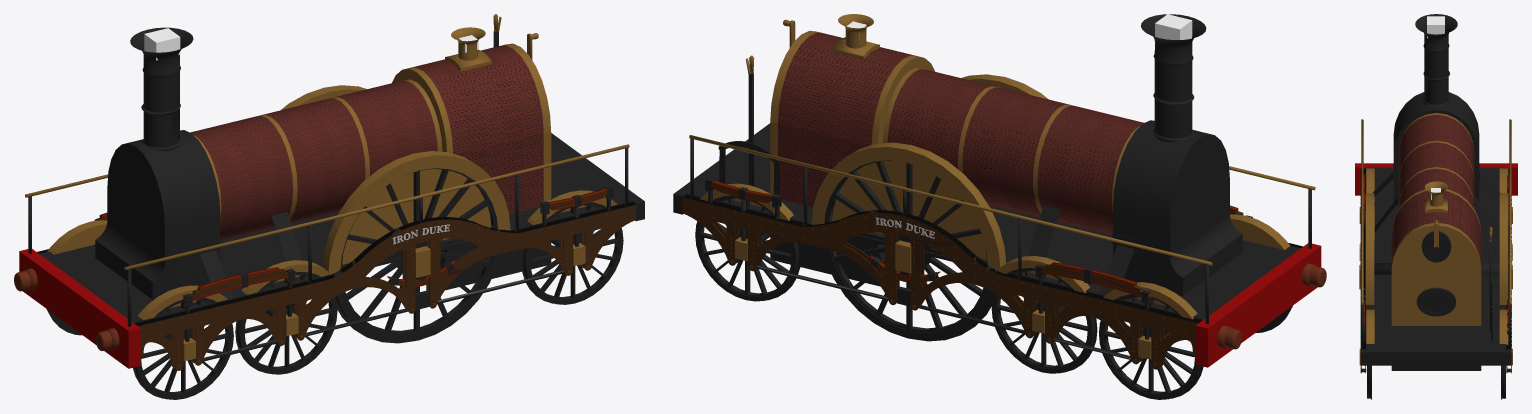
File: iron_duke.obj
3 views of the same model, side by side, from view 1: azimuth 30°, elevation 25°; view 2: azimuth 150°, elevation 25°; view 3: azimuth 270°, elevation 25° (orthographic). The views are drawn at different scales.
Visible parts, largest first — view 1: group_29_ID3291, SMOKEBOX_ID769, SHELL.040_ID5826, FIREBOX.001_ID5944, BOILER_SEGMENT_0_WOOD_ID711, BOILER_SEGMENT_1_WOOD_ID739, BOILER_SEGMENT_2_WOOD_ID754, FRAME.291_ID3181, SHELL.010_ID5641, SHELL.012_ID5653, FIREBOX.008_ID5988, WHEEL_DRIVER_1.001_ID481 (+29 smaller); view 2: group_1_ID823, SMOKEBOX_ID769, SHELL.040_ID5826, FIREBOX.001_ID5944, BOILER_SEGMENT_0_WOOD_ID711, BOILER_SEGMENT_1_WOOD_ID739, BOILER_SEGMENT_2_WOOD_ID754, FRAME.291_ID3181, SHELL_ID3216, SHELL.002_ID3228, FIREBOX.009_ID5996, WHEEL_DRIVER_1.019_ID589 (+29 smaller); view 3: SHELL.040_ID5826, FIREBOX.002_ID5952, FIREBOX.001_ID5944, FRAME.292_ID3190, SMOKEBOX_ID769, BOILER_SEGMENT_0_WOOD_ID711, BOILER_SEGMENT_1_WOOD_ID739, BOILER_SEGMENT_2_WOOD_ID754, SHELL.010_ID5641, SHELL_ID3216, group_36_ID5793, group_36.001_ID5799 (+29 smaller).
Part boxes in pixels (box(x1,y1,x2,y2)): group_29_ID3291: box(138, 205, 635, 370); SMOKEBOX_ID769: box(95, 130, 220, 299); SHELL.040_ID5826: box(39, 142, 632, 323); FIREBOX.001_ID5944: box(410, 45, 543, 154); BOILER_SEGMENT_0_WOOD_ID711: box(190, 116, 293, 240); BOILER_SEGMENT_1_WOOD_ID739: box(261, 98, 365, 223); BOILER_SEGMENT_2_WOOD_ID754: box(333, 80, 437, 175); FRAME.291_ID3181: box(19, 249, 140, 368); SHELL.010_ID5641: box(322, 151, 510, 275); SHELL.012_ID5653: box(342, 169, 491, 264); FIREBOX.008_ID5988: box(457, 133, 543, 214); WHEEL_DRIVER_1.001_ID481: box(340, 168, 496, 335); group_1_ID823: box(682, 197, 1197, 369); SMOKEBOX_ID769: box(1113, 120, 1242, 296); SHELL.040_ID5826: box(686, 132, 1300, 320); FIREBOX.001_ID5944: box(778, 32, 917, 145); BOILER_SEGMENT_0_WOOD_ID711: box(1037, 105, 1143, 234); BOILER_SEGMENT_1_WOOD_ID739: box(962, 87, 1069, 216); BOILER_SEGMENT_2_WOOD_ID754: box(887, 69, 994, 169); FRAME.291_ID3181: box(1195, 243, 1321, 367); SHELL_ID3216: box(811, 142, 1005, 270); SHELL.002_ID3228: box(832, 160, 986, 259); FIREBOX.009_ID5996: box(778, 124, 867, 207); WHEEL_DRIVER_1.019_ID589: box(827, 160, 987, 332); SHELL.040_ID5826: box(1366, 167, 1506, 349); FIREBOX.002_ID5952: box(1391, 225, 1481, 325); FIREBOX.001_ID5944: box(1391, 191, 1481, 266); FRAME.292_ID3190: box(1360, 349, 1511, 365); SMOKEBOX_ID769: box(1393, 92, 1479, 205); BOILER_SEGMENT_0_WOOD_ID711: box(1398, 114, 1474, 178); BOILER_SEGMENT_1_WOOD_ID739: box(1398, 142, 1474, 204); BOILER_SEGMENT_2_WOOD_ID754: box(1398, 168, 1474, 208); SHELL.010_ID5641: box(1365, 193, 1374, 304); SHELL_ID3216: box(1499, 193, 1508, 304); group_36_ID5793: box(1415, 14, 1457, 52); group_36.001_ID5799: box(1423, 71, 1449, 105).
Size of the model in its own units: 7.68 by 4.45 by 2.71.
13 materials, 1 textured.
